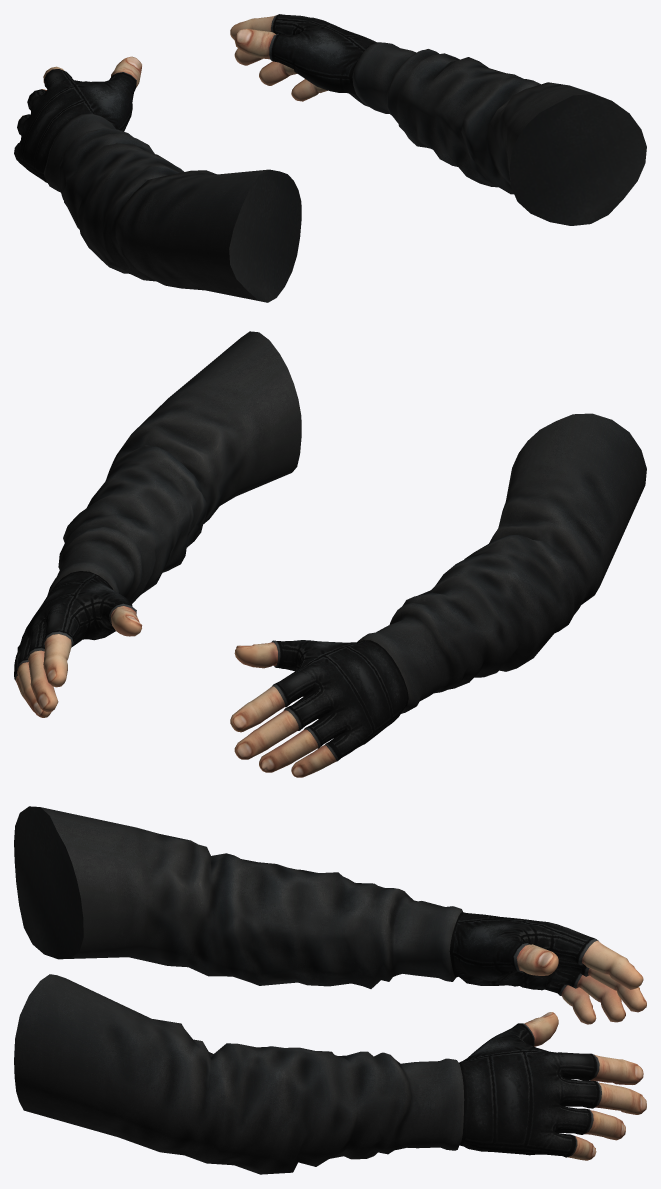
Rendered from player.obj.
The picture shows the model from 3 angles, top to bottom: view 1: azimuth 30°, elevation 25°; view 2: azimuth 150°, elevation 25°; view 3: azimuth 270°, elevation 25°; orthographic projection. The views are drawn at different scales.
Parts seen in each view (by area): view 1: Arm01_Mesh; view 2: Arm01_Mesh; view 3: Arm01_Mesh.
Part boxes in pixels (x1,y1,x2,y2): Arm01_Mesh: [14, 14, 646, 302]; Arm01_Mesh: [14, 331, 646, 777]; Arm01_Mesh: [14, 806, 646, 1174].
Bounding box in the file's own units: 4.86 × 1.8 × 5.22.
Materials: 1 (1 with a texture image).
